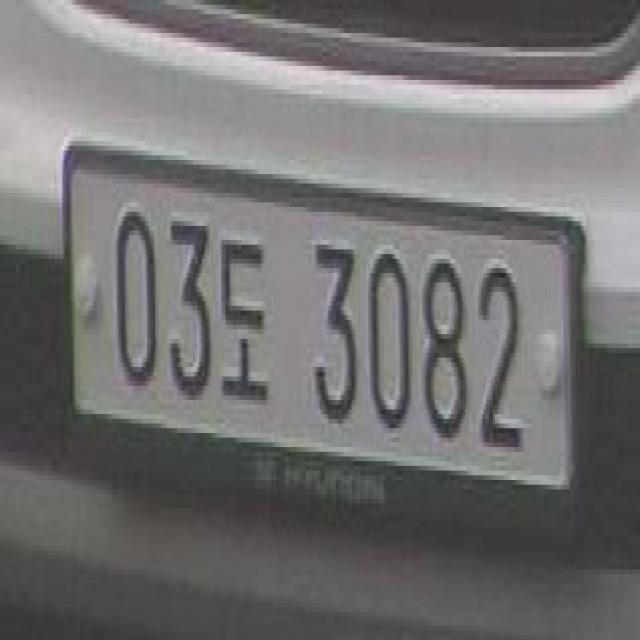illegal_plate: (68, 138, 583, 532)
